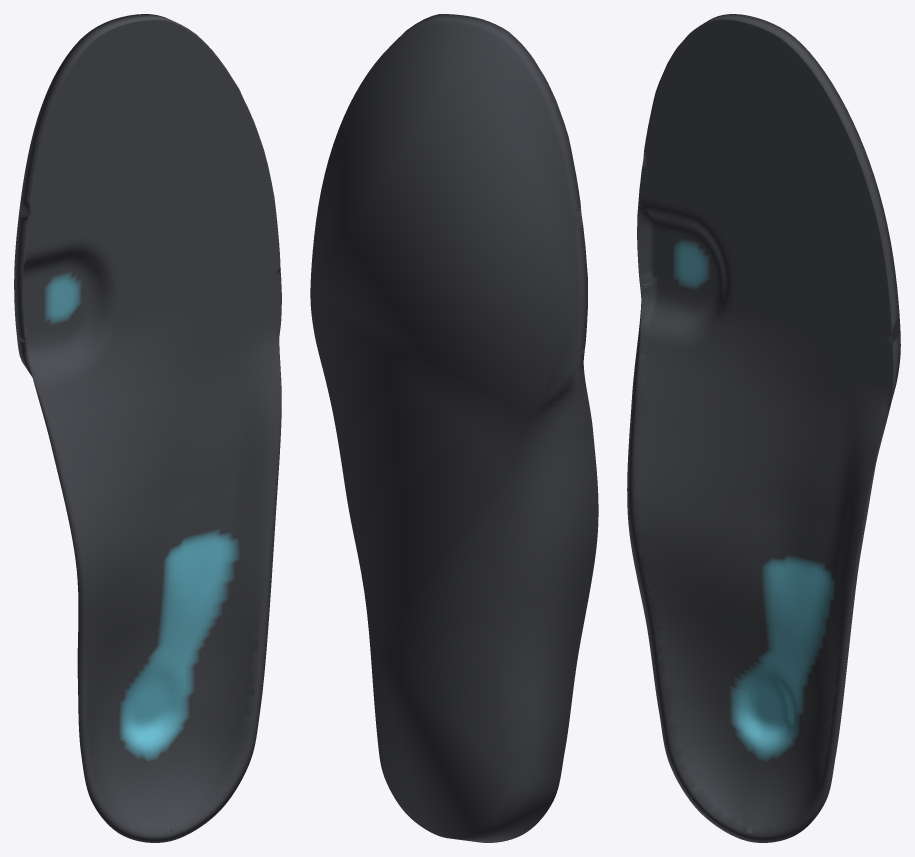
The model's file is CPO-306397_RIGHT.glb.
3 views of the same model, side by side, from view 1: azimuth 30°, elevation 25°; view 2: azimuth 150°, elevation 25°; view 3: azimuth 330°, elevation 25° (orthographic). The views are drawn at different scales.
Parts seen in each view (by area): view 1: CPO-306397_Heel-Spur_RIGHT.stl; view 2: CPO-306397_Heel-Spur_RIGHT.stl; view 3: CPO-306397_Heel-Spur_RIGHT.stl.
Boxes of the visible parts, x1,y1,x2,y2 form: CPO-306397_Heel-Spur_RIGHT.stl: [14, 14, 281, 842]; CPO-306397_Heel-Spur_RIGHT.stl: [310, 14, 598, 842]; CPO-306397_Heel-Spur_RIGHT.stl: [627, 14, 900, 842].
Size of the model in its own units: 82.03 by 245 by 22.08.
